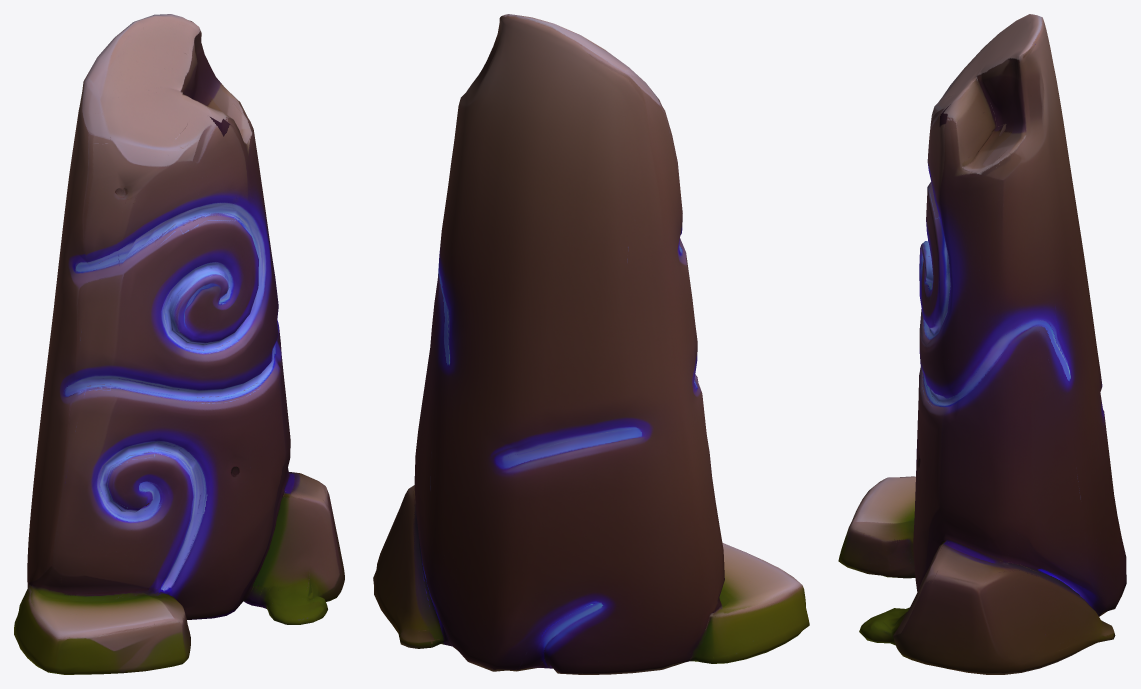
The model's file is rock_blue.fbx.
3 views of the same model, side by side, from view 1: azimuth 30°, elevation 25°; view 2: azimuth 150°, elevation 25°; view 3: azimuth 270°, elevation 25° (orthographic). The views are drawn at different scales.
Visible parts, largest first — view 1: Retopo_3; view 2: Retopo_3; view 3: Retopo_3.
Boxes of the visible parts, x1=… form: Retopo_3: x1=14, y1=14, x2=344, y2=674; Retopo_3: x1=373, y1=14, x2=809, y2=674; Retopo_3: x1=838, y1=14, x2=1126, y2=674.
Bounding box in the file's own units: 62.44 × 98.81 × 44.94.
1 material, 1 textured.
